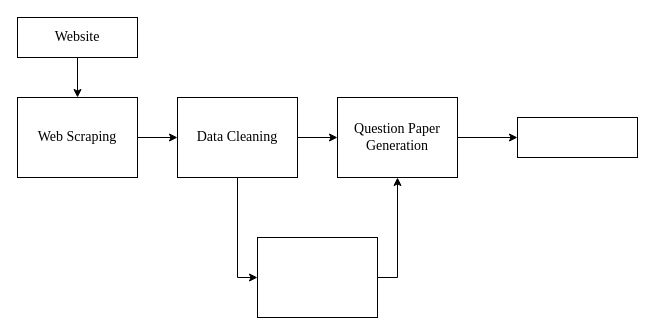
Some shapes in this 655 by 335 pixel diagram are drawn without their labels. Each missing label, with the centre of its shape:
Data Classification: the point at 317,277
Question Paper: the point at 577,137
